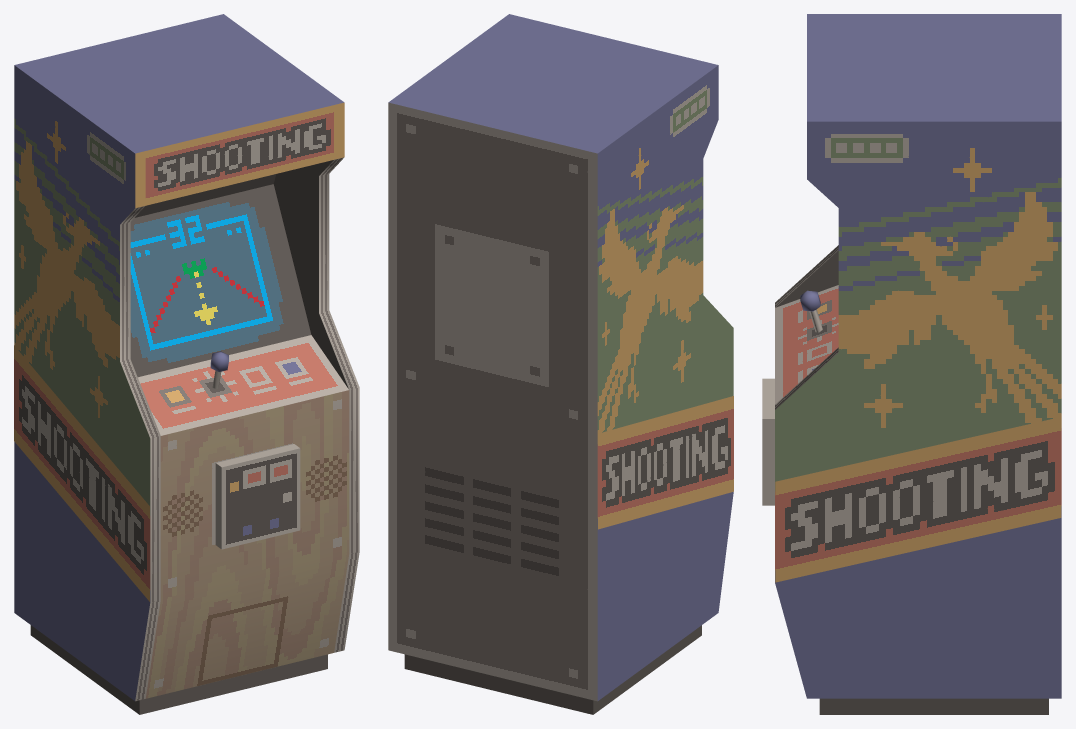
File: 012f_Arcade_Machine.glb
3 renders of one model, left to right at view 1: azimuth 30°, elevation 25°; view 2: azimuth 150°, elevation 25°; view 3: azimuth 270°, elevation 25°, orthographic. The views are drawn at different scales.
Visible parts, largest first — view 1: part_0; view 2: part_0; view 3: part_0.
Boxes of the visible parts, x1,y1,x2,y2 form: part_0: (14,14,359,714); part_0: (388,14,733,714); part_0: (762,14,1061,714).
Size of the model in its own units: 0.802 by 2.08 by 0.94.
Materials: 1 (1 with a texture image).
